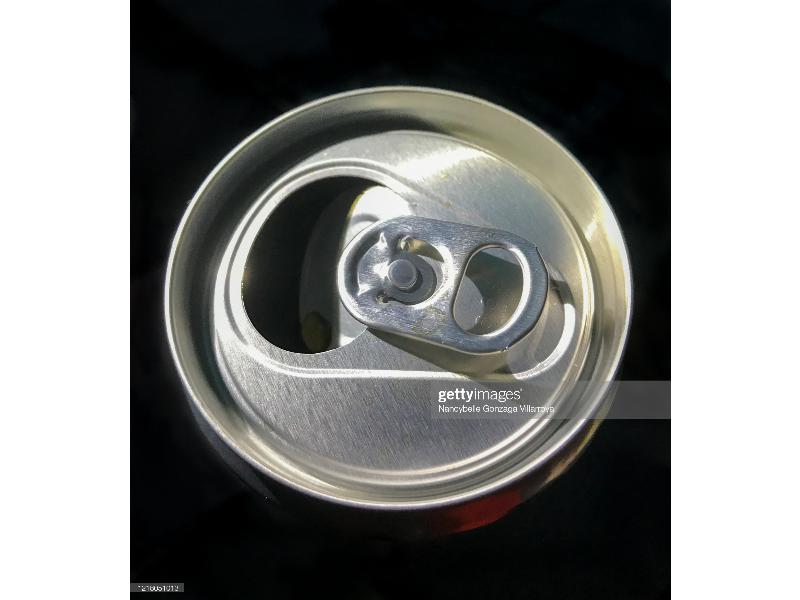can: (159, 77, 641, 533)
